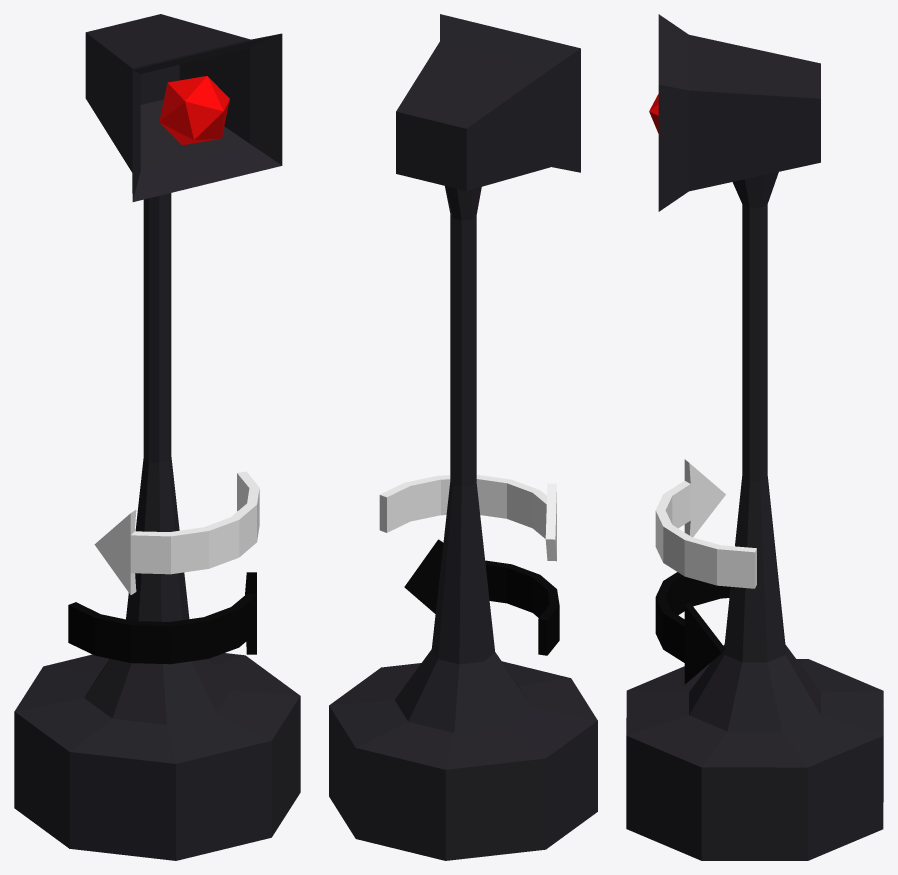
Rendered from LightPole.fbx.
The picture shows the model from 3 angles, left to right: view 1: azimuth 30°, elevation 25°; view 2: azimuth 150°, elevation 25°; view 3: azimuth 270°, elevation 25°; orthographic projection. The views are drawn at different scales.
Visible parts, largest first — view 1: LightPole, Rotate_right, Rotate_left, RotateObject; view 2: LightPole, Rotate_left, Rotate_right; view 3: LightPole, Rotate_left, Rotate_right.
Part boxes in pixels (bbox=[...]): LightPole: bbox=[14, 14, 300, 860]; Rotate_right: bbox=[68, 572, 256, 664]; Rotate_left: bbox=[94, 471, 259, 594]; RotateObject: bbox=[159, 76, 229, 145]; LightPole: bbox=[329, 14, 597, 860]; Rotate_left: bbox=[379, 474, 556, 561]; Rotate_right: bbox=[404, 539, 559, 655]; LightPole: bbox=[626, 14, 883, 860]; Rotate_left: bbox=[655, 459, 756, 588]; Rotate_right: bbox=[655, 572, 730, 684].
Size of the model in its own units: 185 by 601 by 185.
